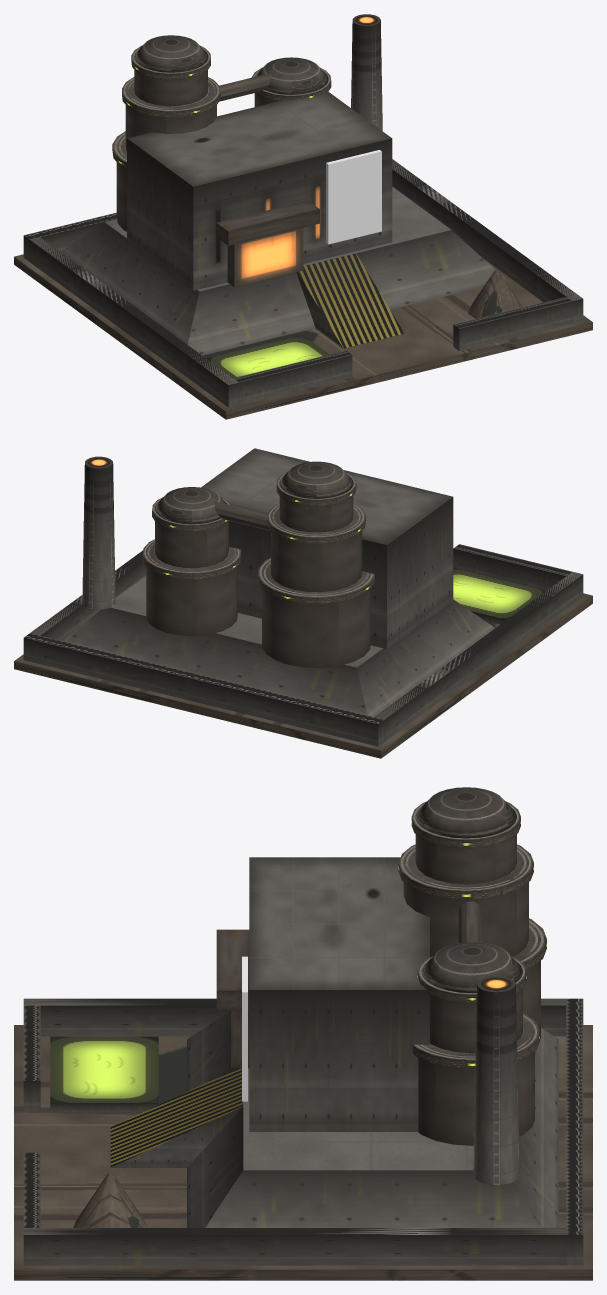
File: refinery.glb
3 renders of one model, top to bottom at view 1: azimuth 30°, elevation 25°; view 2: azimuth 150°, elevation 25°; view 3: azimuth 270°, elevation 25°, orthographic. The views are drawn at different scales.
Parts seen in each view (by area): view 1: refinery; view 2: refinery; view 3: refinery.
Part boxes in pixels (x1,y1,x2,y2): refinery: (14,14,592,419); refinery: (14,448,592,758); refinery: (14,787,592,1280).
Size of the model in its own units: 4.8 by 2.87 by 4.8.
Materials: 2 (1 with a texture image).
